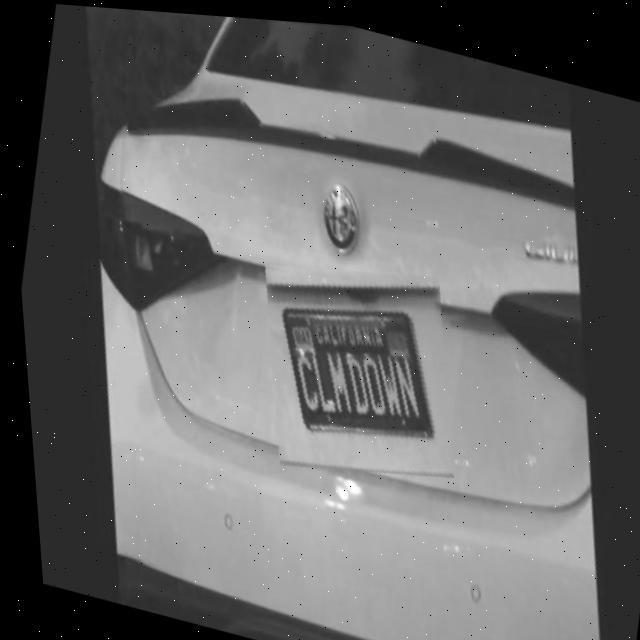LicensePlate: (232, 235, 476, 497)
